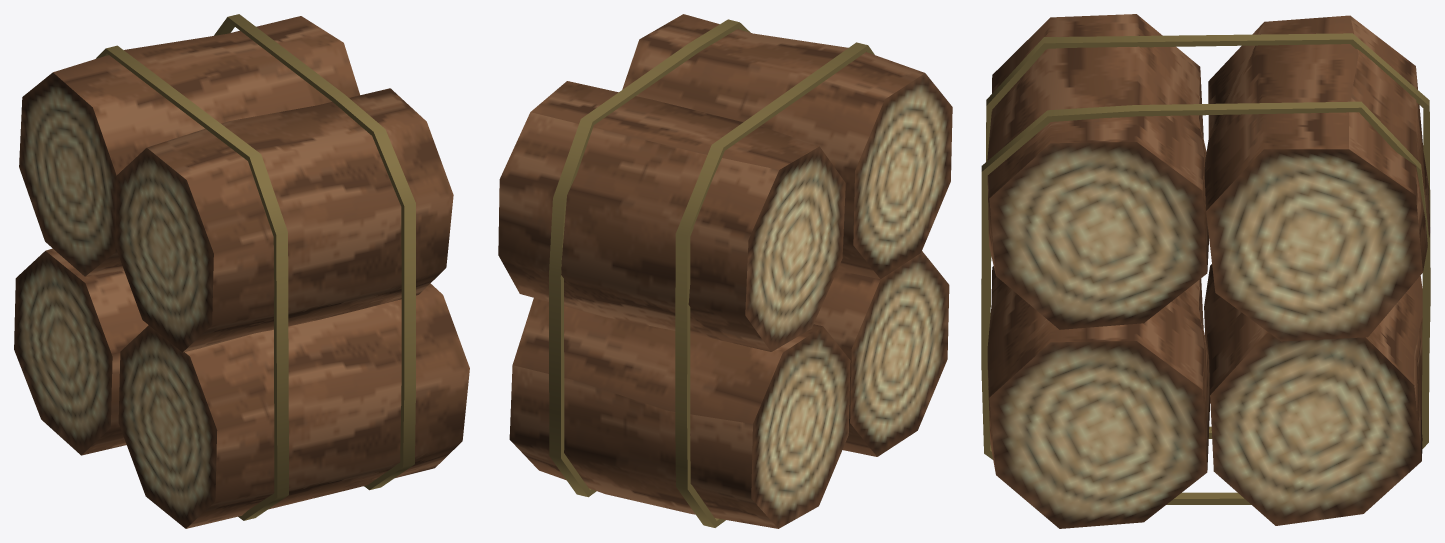
Rendered from igot4logs.fbx.
3 renders of one model, left to right at view 1: azimuth 30°, elevation 25°; view 2: azimuth 150°, elevation 25°; view 3: azimuth 270°, elevation 25°, orthographic. The views are drawn at different scales.
Parts seen in each view (by area): view 1: FourLogsStack; view 2: FourLogsStack; view 3: FourLogsStack.
Part boxes in pixels (<box>): FourLogsStack: <box>14,14,469,528</box>; FourLogsStack: <box>498,14,952,528</box>; FourLogsStack: <box>981,14,1430,528</box>.
Bounding box in the file's own units: 0.1907 × 0.2603 × 0.2653.
